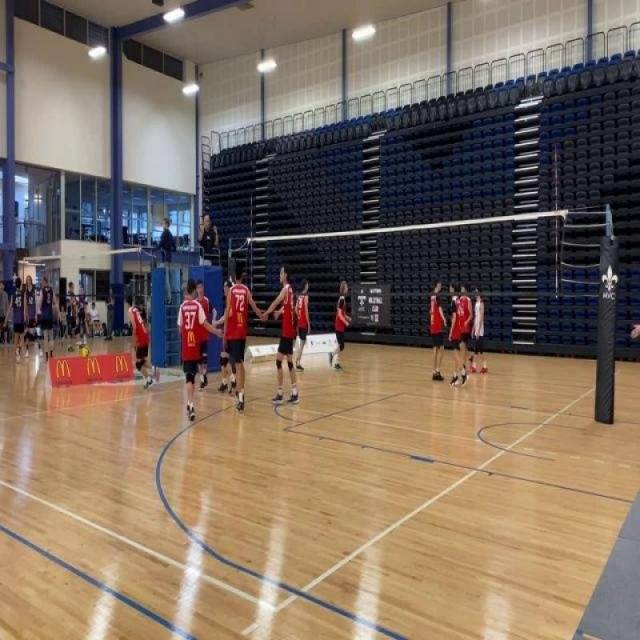volleyball: (80, 344, 91, 361)
